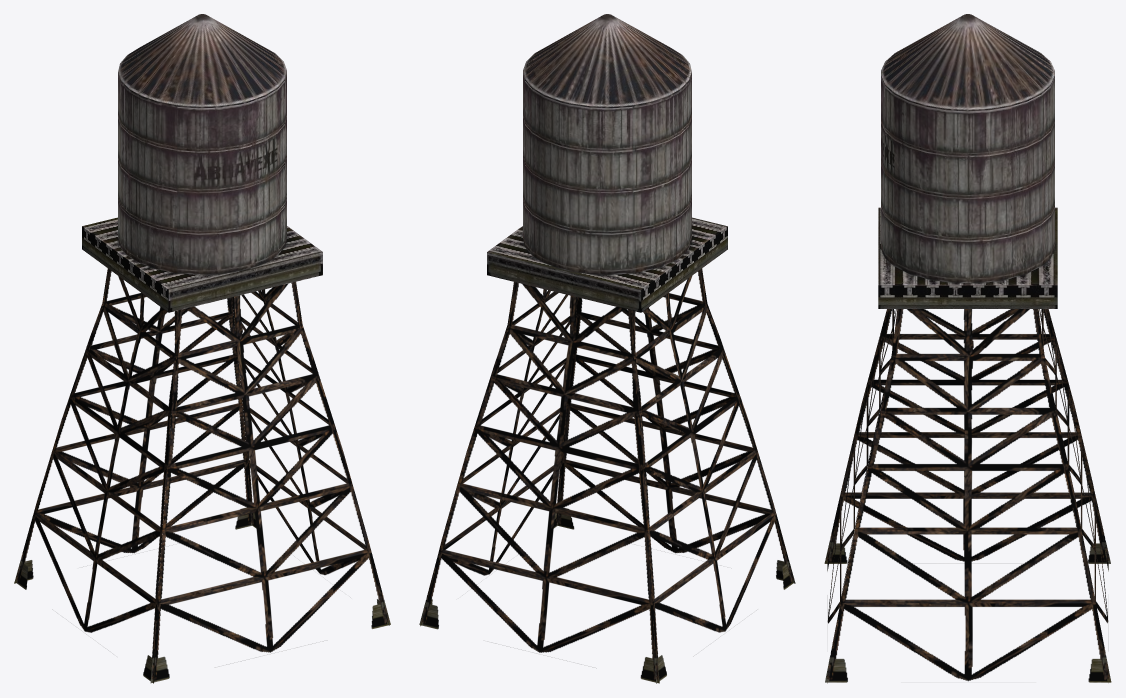
The model's file is nycity_24.gltf.
3 views of the same model, side by side, from view 1: azimuth 30°, elevation 25°; view 2: azimuth 150°, elevation 25°; view 3: azimuth 270°, elevation 25° (orthographic). The views are drawn at different scales.
Parts seen in each view (by area): view 1: nycity_24; view 2: nycity_24; view 3: nycity_24.
Boxes of the visible parts, x1,y1,x2,y2 form: nycity_24: (14, 14, 390, 683); nycity_24: (419, 14, 795, 683); nycity_24: (824, 14, 1111, 683).
Size of the model in its own units: 5.47 by 12.76 by 5.47.
Materials: 2 (2 with a texture image).
